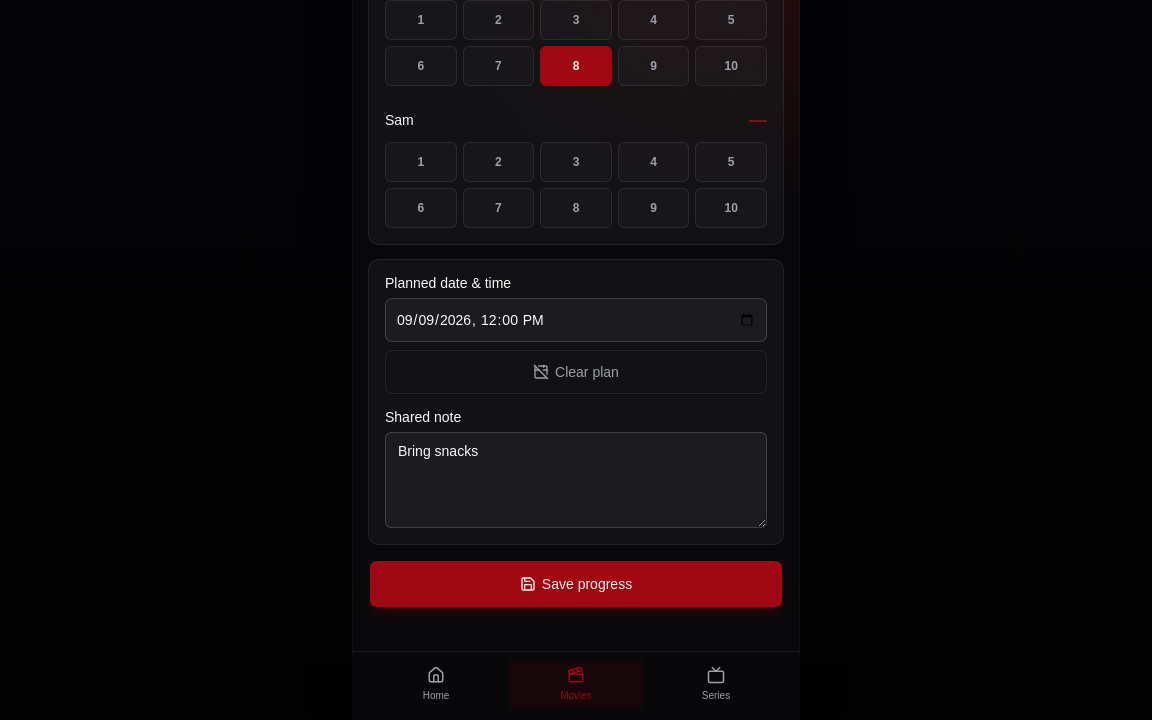
Test: save success feedback › persists a null plan from the detail page without waking the other member
(page scrolled)
Click the button "Clear plan": (576, 372) [385, 350, 767, 394]
(page scrolled)
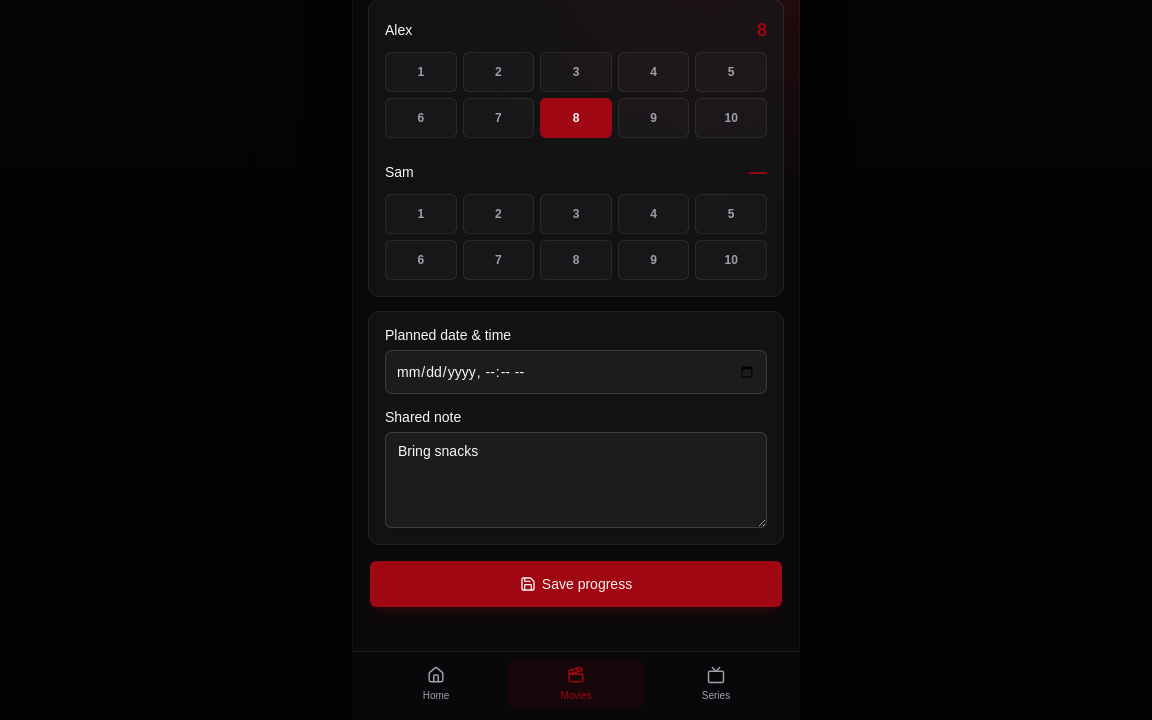
Click the button "Save progress": (576, 584) [369, 560, 783, 608]
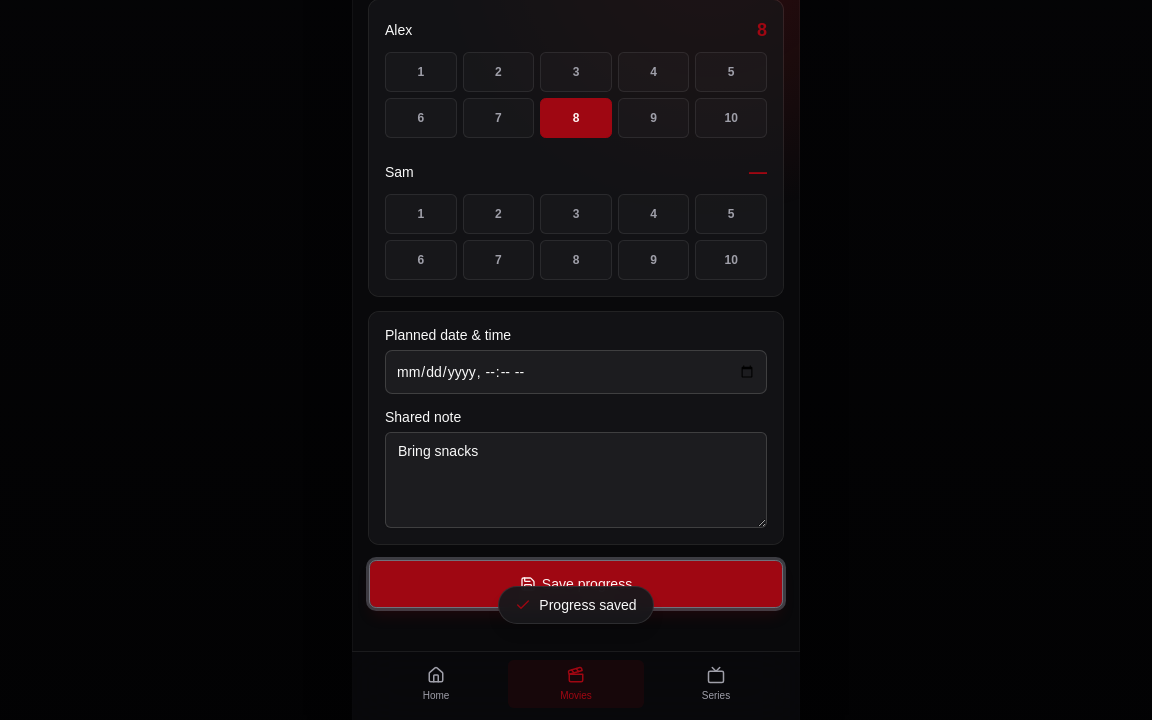
Check: the message reads "Progress saved", box [539, 597, 637, 613]
Check: the number of elements with test id "confetti" is 1
Check: the number of messages is 1, box [498, 586, 654, 624]
